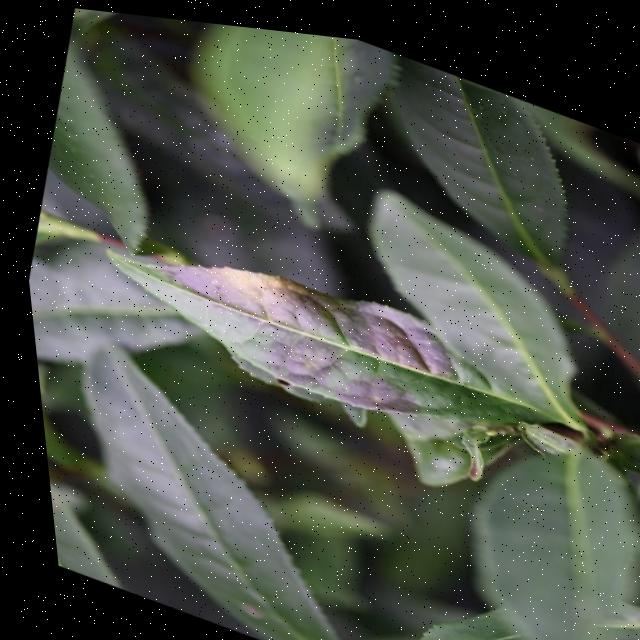Tea exobasidium blight: (145, 219, 497, 439)
